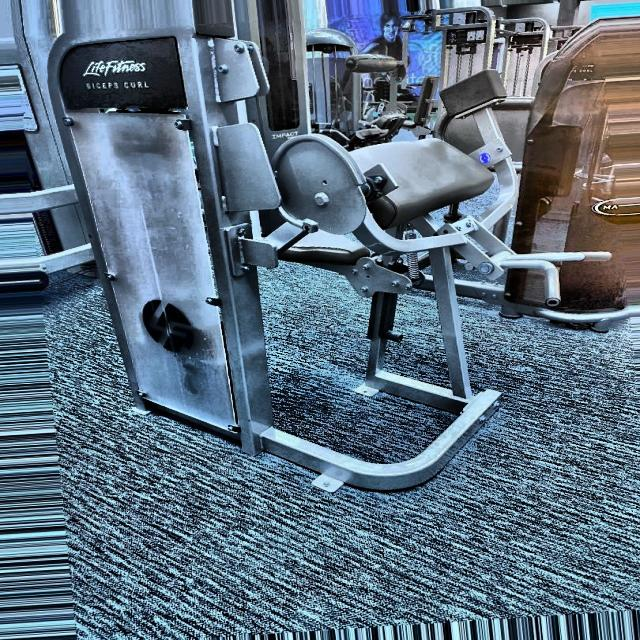bicep_curl_machine: (10, 13, 623, 498)
